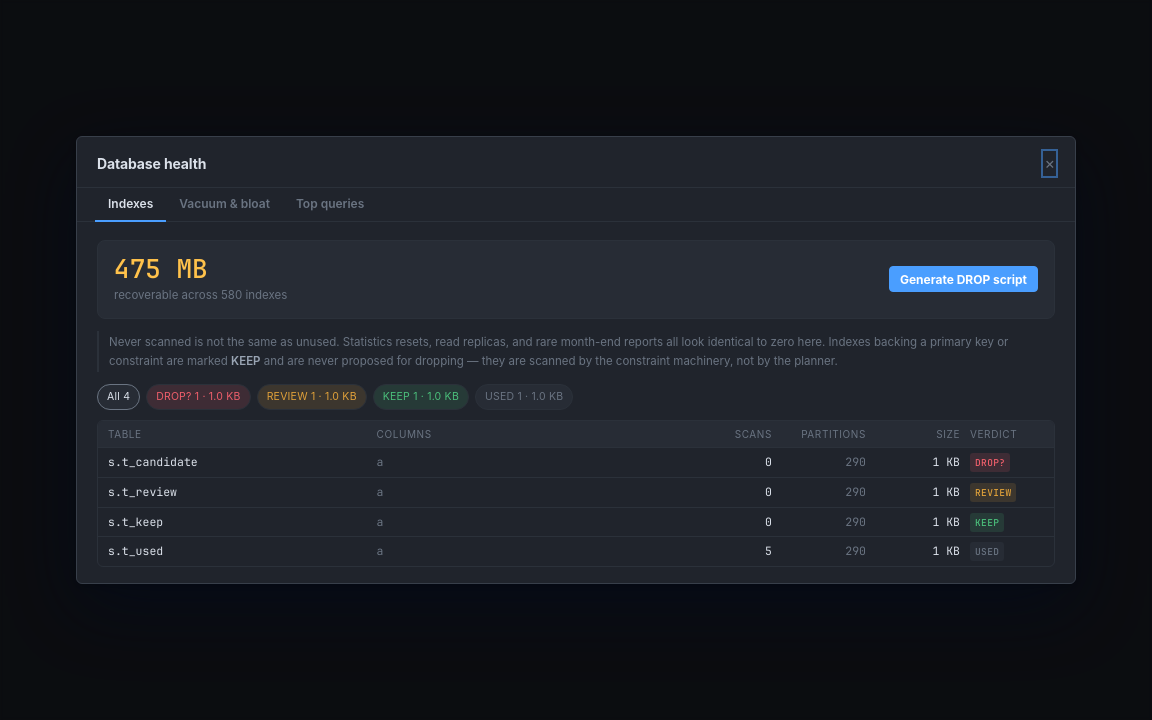
Test: HealthModal — indexes › returns to everything via the All chip
Click the button "DROP? 1 · 1.0 KB": [198, 397] box [146,384,251,410]
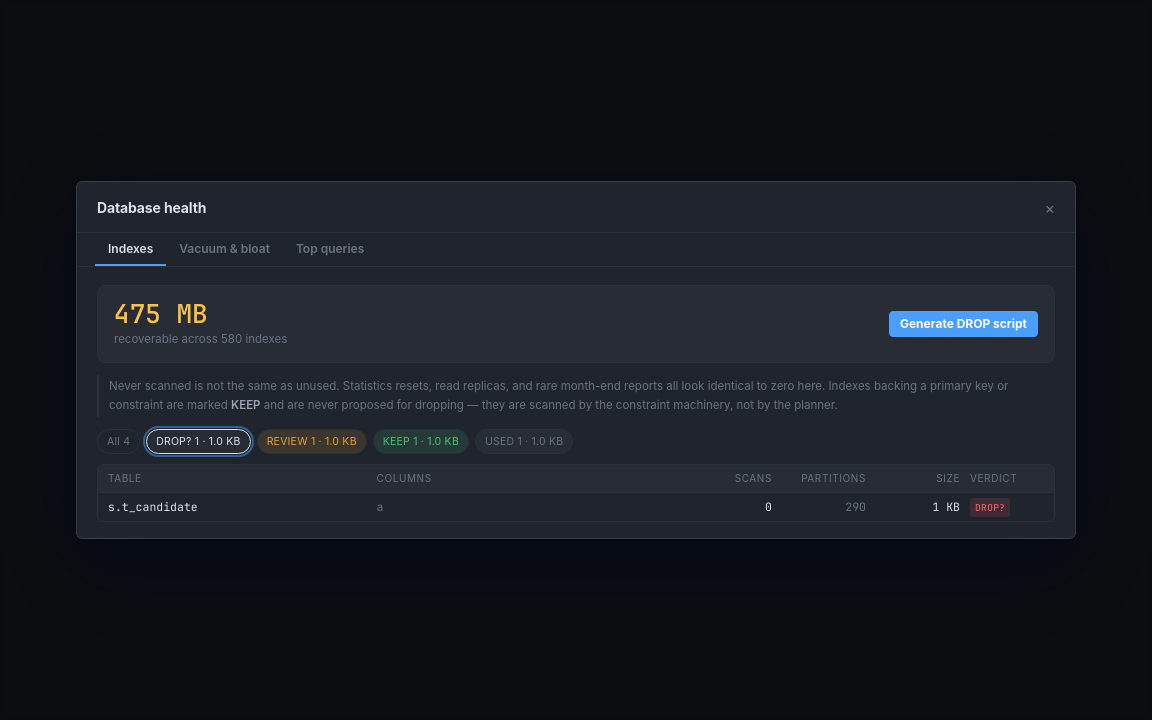
Click the button "All 4": [119, 442] box [97,429,140,454]
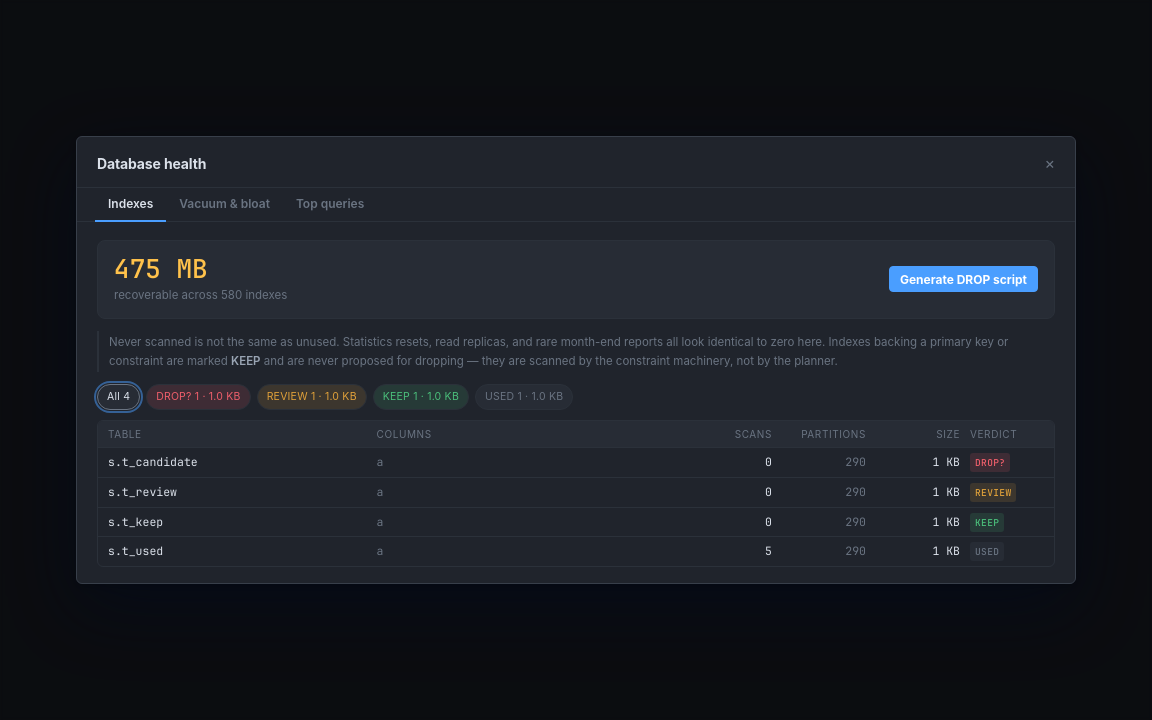
Result: the number of elements titled "because" is 4 at [98,448,1054,478]; [98,478,1054,508]; [98,508,1054,537]; [98,537,1054,566]
